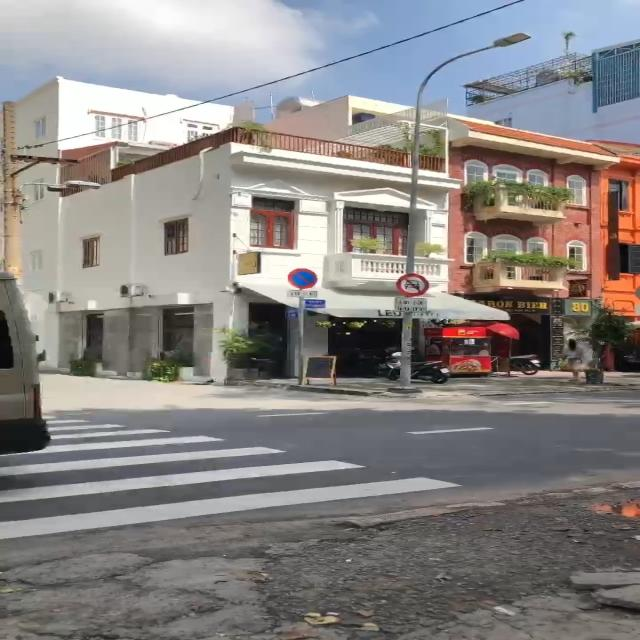Bien bao cam do xe: (286, 267, 321, 289)
Bien bao cam xe oto: (395, 271, 433, 297)
